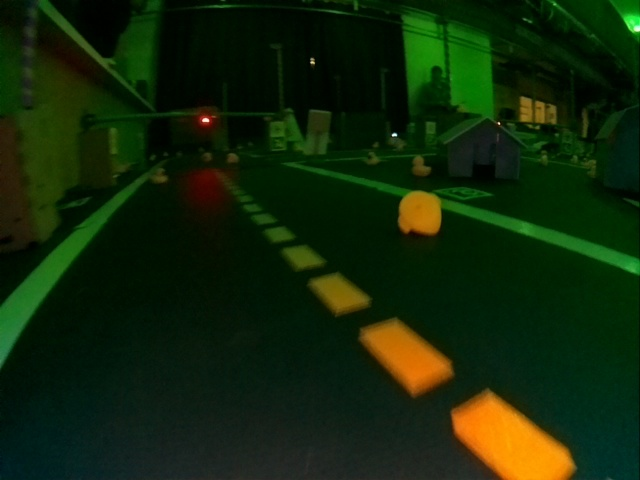Duckie: (401, 192, 441, 234), (411, 155, 430, 176), (150, 169, 168, 182), (364, 151, 378, 165), (227, 153, 237, 163), (203, 153, 212, 162)
QR code: (440, 187, 492, 201), (271, 136, 285, 149)
Traffic light: (200, 115, 210, 124)
